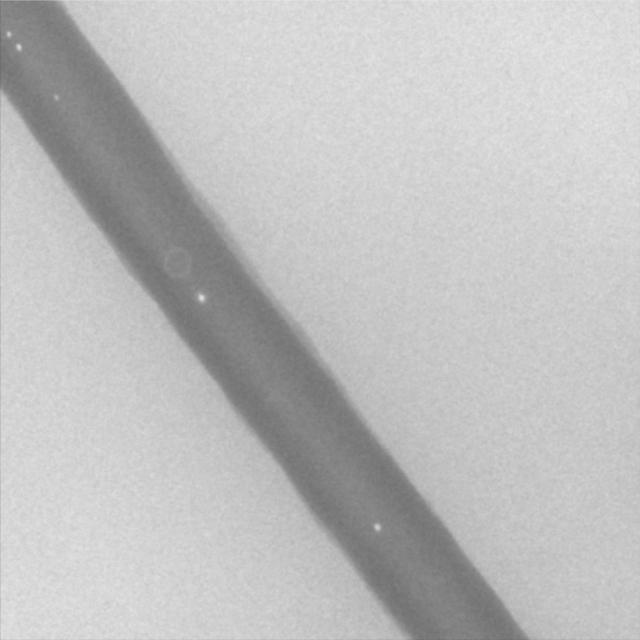air hole: (195, 291, 205, 303), (371, 521, 381, 532), (5, 29, 11, 39), (54, 92, 60, 101), (16, 43, 22, 52)
hollow bead: (160, 246, 193, 281)
